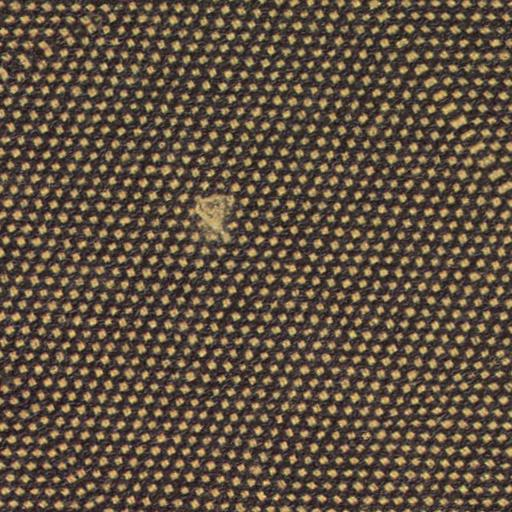knot: (190, 188, 244, 242)
